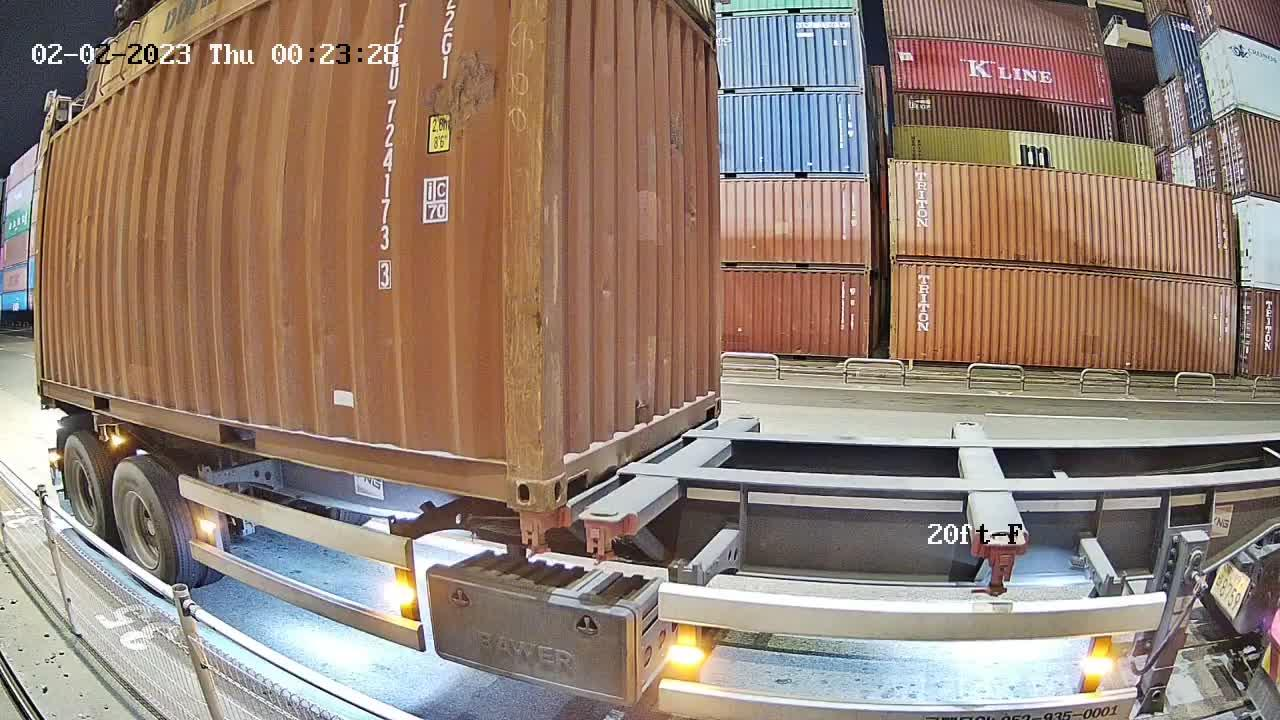Chassis: (580, 416, 760, 526)
Cone: (582, 507, 634, 559), (513, 508, 562, 554)
Hole_L: (541, 423, 593, 512)
Hole_R: (477, 438, 543, 513), (699, 377, 722, 423)
Tire: (110, 458, 182, 598), (62, 436, 110, 549)
